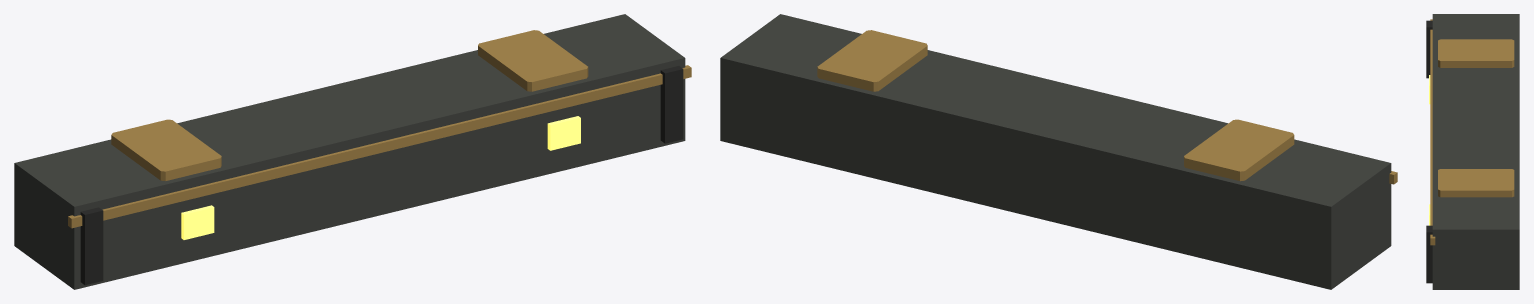
Rendered from b3_drive.glb.
The picture shows the model from 3 angles, left to right: view 1: azimuth 30°, elevation 25°; view 2: azimuth 150°, elevation 25°; view 3: azimuth 270°, elevation 25°; orthographic projection. The views are drawn at different scales.
Visible parts, largest first — view 1: b3_drive; view 2: b3_drive; view 3: b3_drive.
Boxes of the visible parts, bbox=[...] form: b3_drive: bbox=[14, 14, 691, 289]; b3_drive: bbox=[720, 14, 1397, 289]; b3_drive: bbox=[1426, 14, 1519, 289].
Bounding box in the file's own units: 2.03 × 0.29 × 0.365.
